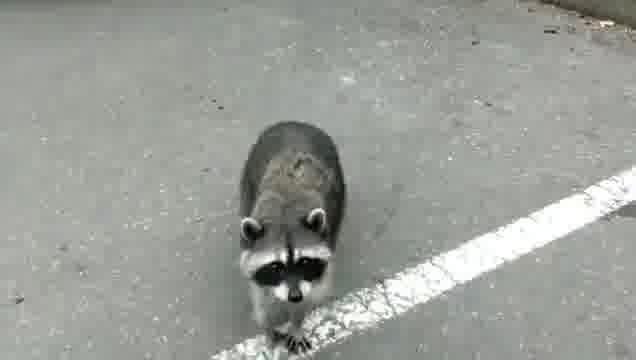raccoon: (228, 119, 349, 360)
